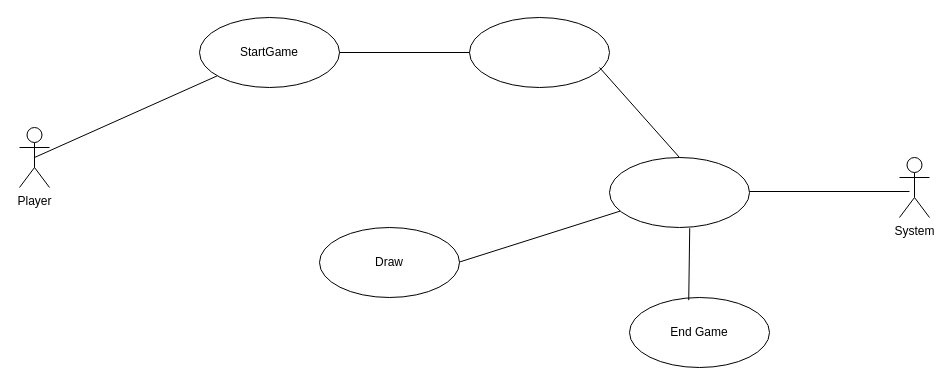
The diagram is 951 pixels wide and 385 high, and some of its shapes have lost their labels. The box of each missing label's shape, as (x1, y1, x2, y2) in pixels:
Add Symbol to Cell: (468, 16, 610, 88)
Check Win: (608, 156, 750, 228)
